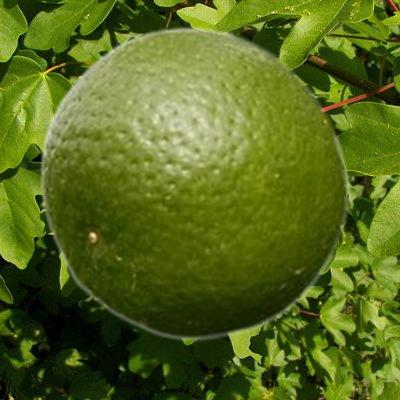calamansi: (39, 23, 350, 341)
